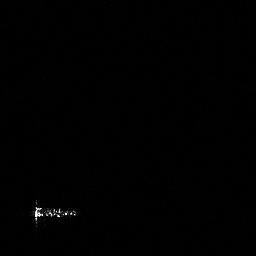ship: (29, 197, 79, 228)
